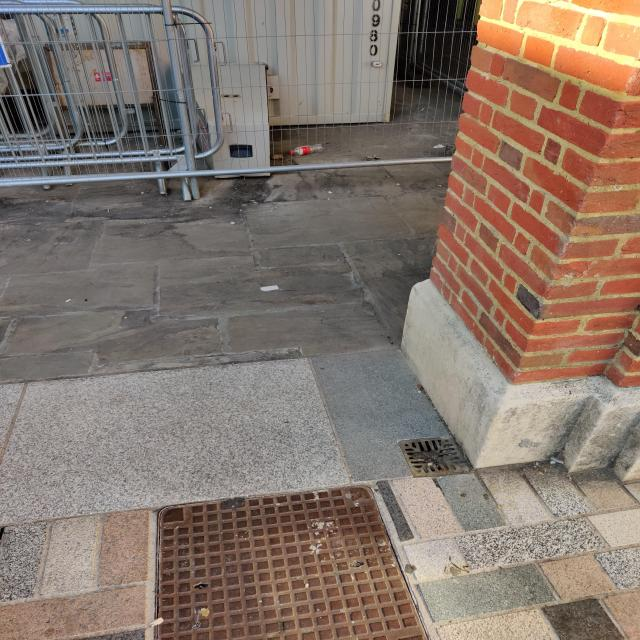litter: (290, 144, 324, 155)
